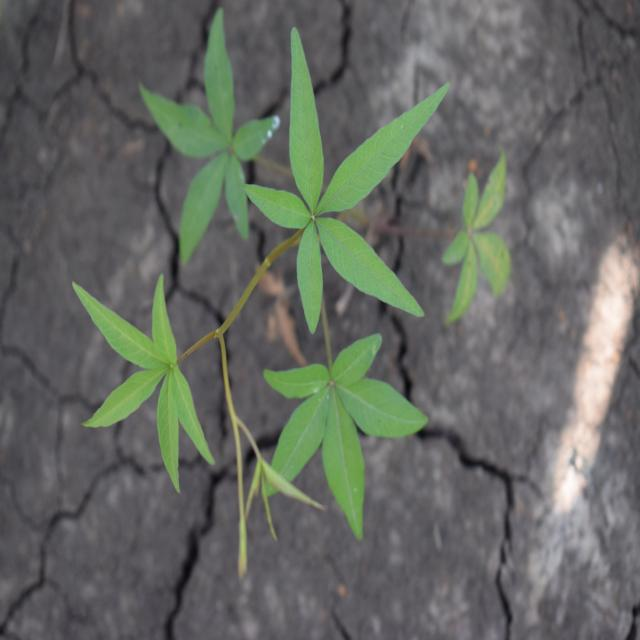MorningGlory: (71, 4, 513, 586)
